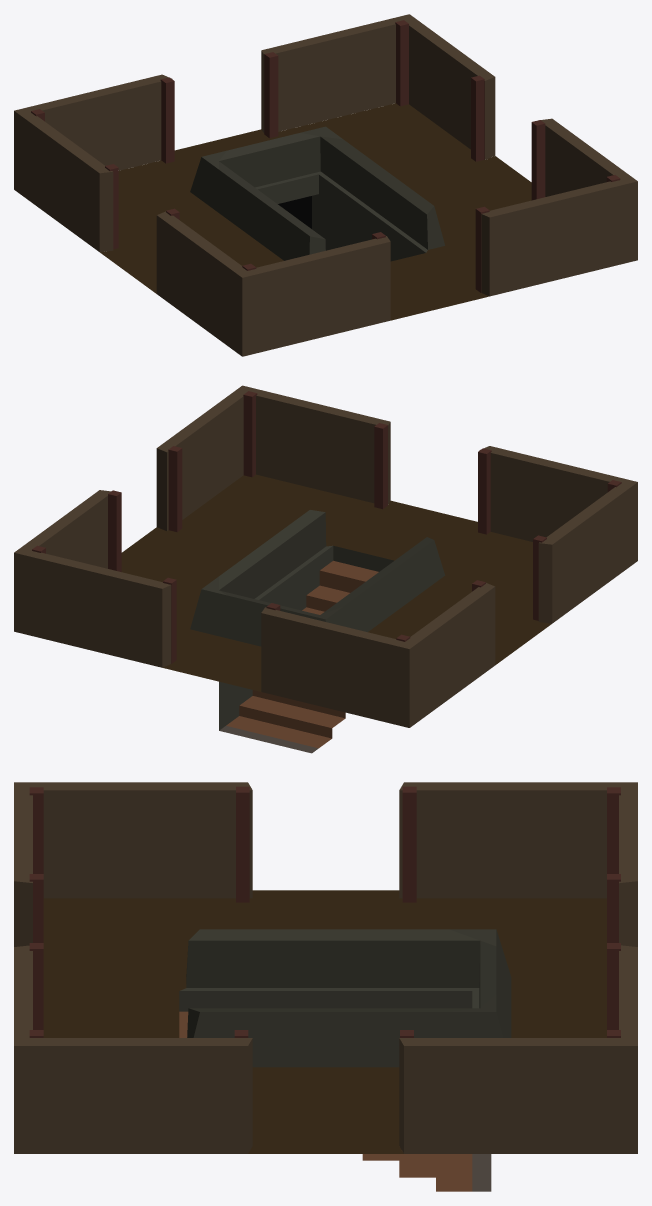
The model's file is RoomDirtStairs.fbx.
3 renders of one model, top to bottom at view 1: azimuth 30°, elevation 25°; view 2: azimuth 150°, elevation 25°; view 3: azimuth 270°, elevation 25°, orthographic. The views are drawn at different scales.
Parts seen in each view (by area): view 1: Room1.010, RoomFloor.016, Support.107, Support.108, Support.114, Support.118, Support.112, Support.105, Support.113; view 2: Room1.010, RoomFloor.016, Support.118, Support.105, Support.114, Support.111, Support.106, Support.107, Support.117; view 3: Room1.010, RoomFloor.016, Support.113, Support.117, Support.110, Support.107, Support.109, Support.105, Support.108, Support.106.
Part boxes in pixels (x1,y1,x2,y2): Room1.010: (14,14,637,356); RoomFloor.016: (100,103,531,320); Support.107: (264,52,278,138); Support.108: (160,77,174,163); Support.114: (471,75,484,161); Support.118: (531,120,545,200); Support.112: (395,20,408,106); Support.105: (475,206,489,292); Support.113: (105,164,118,249); Room1.010: (14,385,637,727); RoomFloor.016: (121,474,551,753); Support.118: (168,446,182,531); Support.105: (374,423,387,509); Support.114: (108,490,121,571); Support.111: (243,391,257,477); Support.106: (478,448,491,534); Support.107: (163,577,176,663); Support.117: (533,535,546,620); Room1.010: (14,782,637,1153); RoomFloor.016: (43,890,606,1191); Support.113: (402,786,416,902); Support.117: (236,786,249,902); Support.110: (607,787,620,873); Support.107: (607,943,620,1029); Support.109: (29,787,43,873); Support.105: (29,943,43,1029); Support.108: (607,874,620,942); Support.106: (29,874,43,942).
Bounding box in the file's own units: 796 × 350 × 796.
